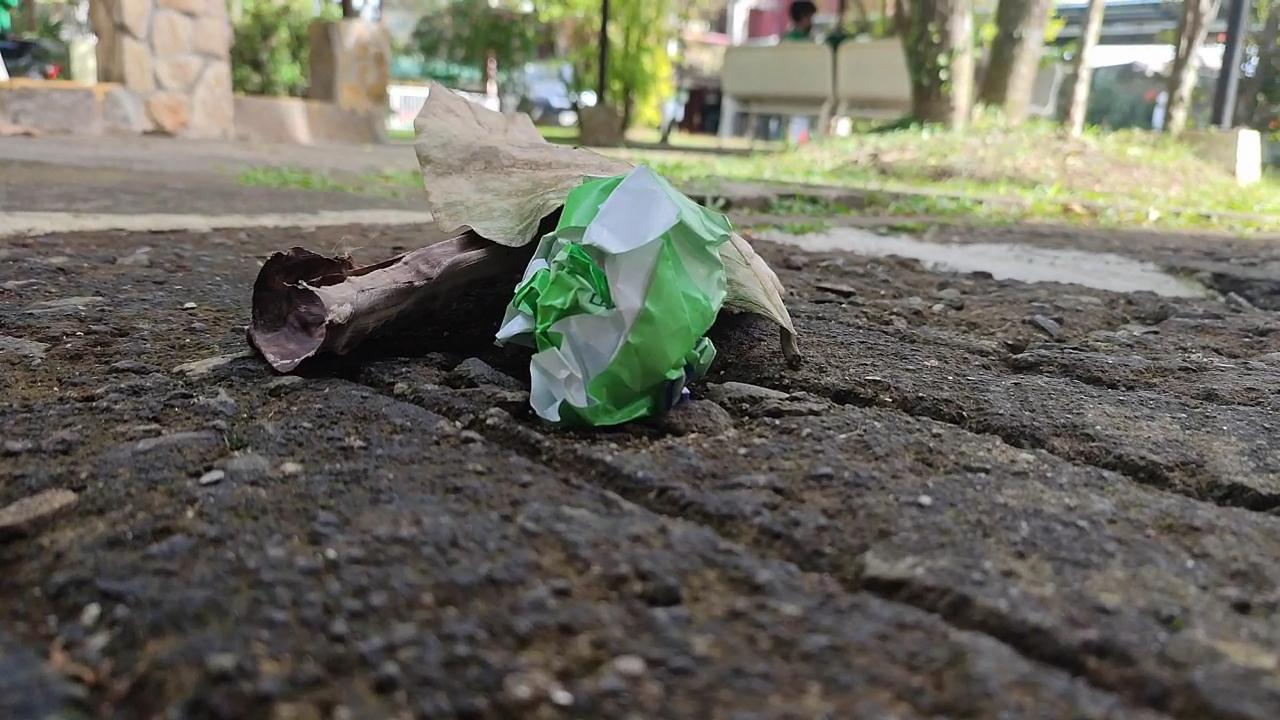Paper: (496, 157, 737, 444)
